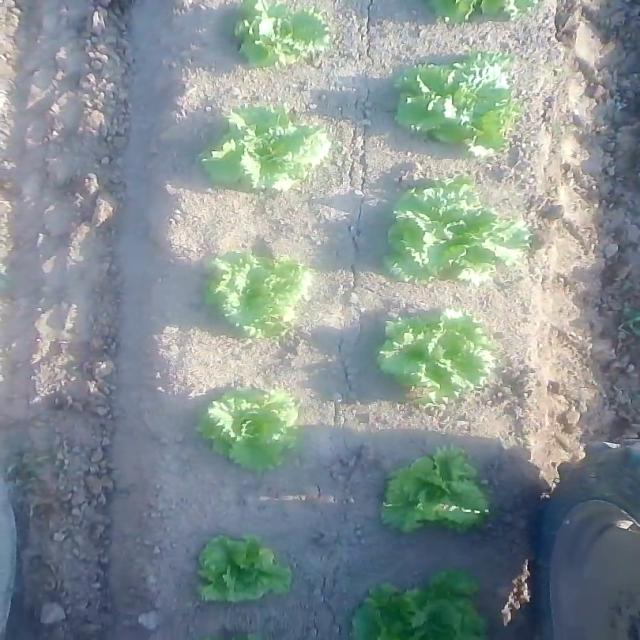Lettuce-Ready-to-Harvest: (196, 101, 319, 189), (388, 443, 496, 543), (396, 54, 507, 141), (180, 543, 294, 601)
